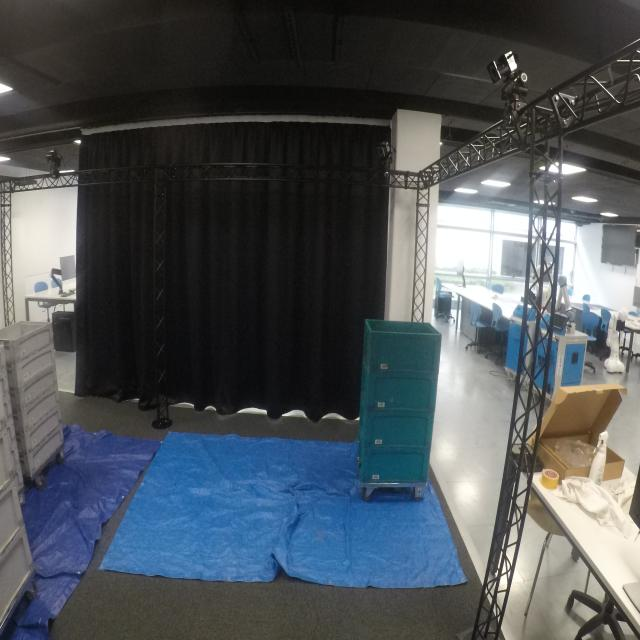BoxB4: (357, 315, 448, 378), (357, 365, 438, 415), (356, 406, 438, 450), (357, 442, 431, 482)
